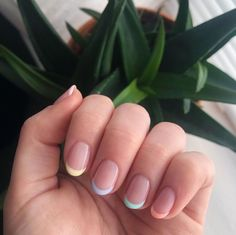nails: (119, 170, 156, 211), (90, 153, 124, 197), (61, 135, 96, 177), (148, 183, 180, 219), (47, 81, 80, 111)
